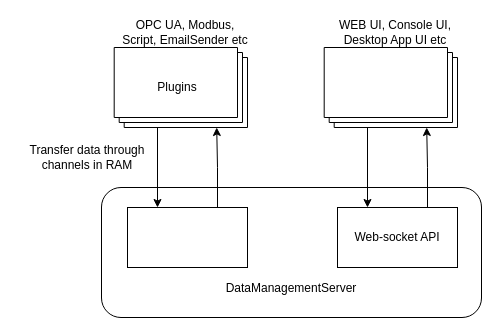
Some shapes in this 499 by 335 pixel diagram are drawn without their labels. Each missing label, with the centre of its shape:
"Channels API" belongs at point (187, 237).
"UI" belongs at point (390, 87).
